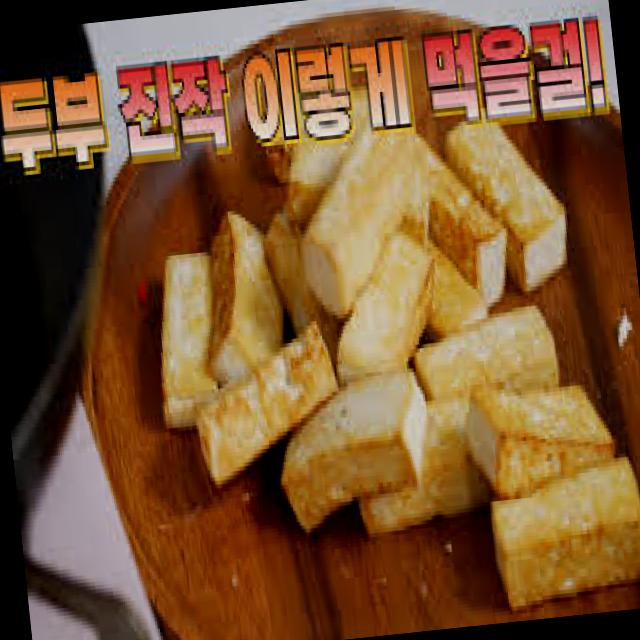tof: (108, 202, 347, 508), (473, 432, 640, 599)
